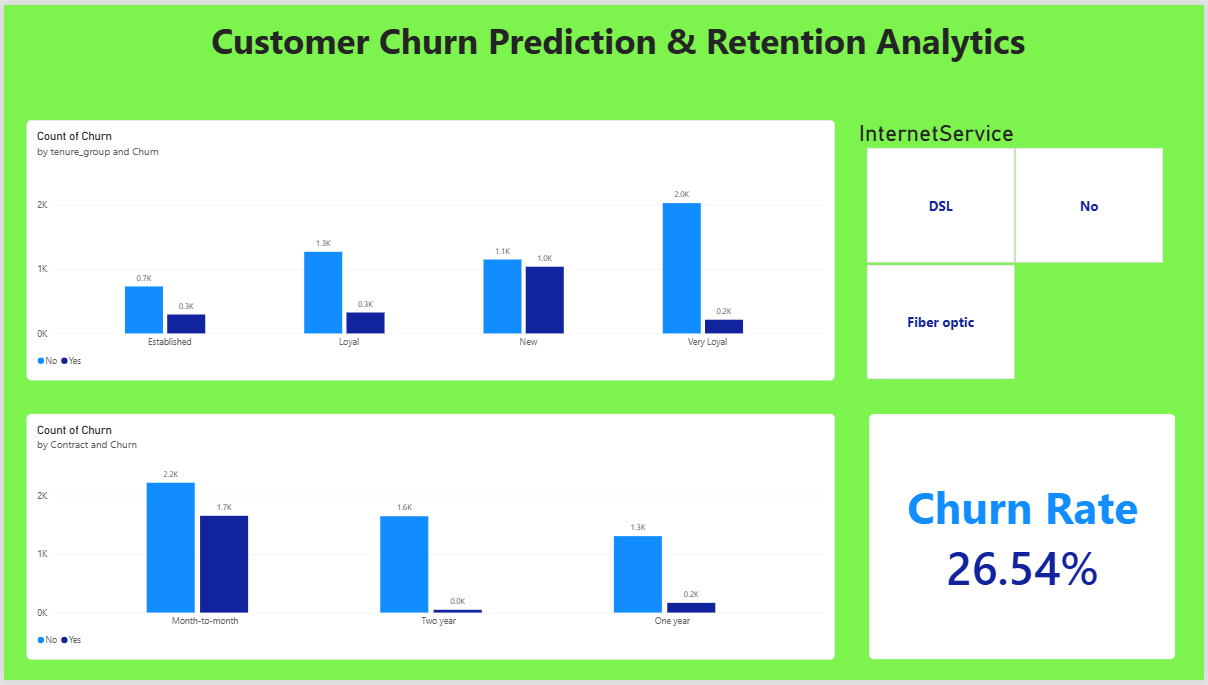

The dashboard page shown, as its layout file describes it:
{"tool":"powerbi","page":{"name":"Churn Overview","canvas":[1920,1080],"ordinal":0},"visuals":[{"type":"clusteredColumnChart","fields":{"Category":["churn_cleaned_for_powerbi.Contract"],"Y":["CountNonNull(churn_cleaned_for_powerbi.Churn)"],"Series":["churn_cleaned_for_powerbi.Churn"]},"box":[36.7,653.3,1293.3,393.3],"z":0},{"type":"clusteredColumnChart","fields":{"Category":["churn_cleaned_for_powerbi.tenure_group"],"Y":["CountNonNull(churn_cleaned_for_powerbi.Churn)"],"Series":["churn_cleaned_for_powerbi.Churn"]},"box":[36.7,183.3,1293.3,416.7],"z":1000},{"type":"cardVisual","fields":{"Data":["churn_cleaned_for_powerbi.Churn Rate"]},"box":[1383.3,653.3,490,393.3],"z":2000},{"type":"slicer","fields":{"Values":["churn_cleaned_for_powerbi.InternetService"]},"box":[1360,183.3,513.3,416.7],"z":3001},{"type":"textbox","box":[0,17.3,1919.2,86.3],"z":3003}]}

Visuals, with their boxes in screenshot pixels (x1, y1, x2, y2), scaled from the page's 1920x1080 canvas onto the 1208x685 screenshot:
clusteredColumnChart - churn_cleaned_for_powerbi.Contract x CountNonNull(churn_cleaned_for_powerbi.Churn): region(23, 414, 837, 664)
clusteredColumnChart - churn_cleaned_for_powerbi.tenure_group x CountNonNull(churn_cleaned_for_powerbi.Churn): region(23, 116, 837, 381)
cardVisual - churn_cleaned_for_powerbi.Churn Rate: region(870, 414, 1179, 664)
slicer - churn_cleaned_for_powerbi.InternetService: region(856, 116, 1179, 381)
textbox: region(0, 11, 1207, 66)
